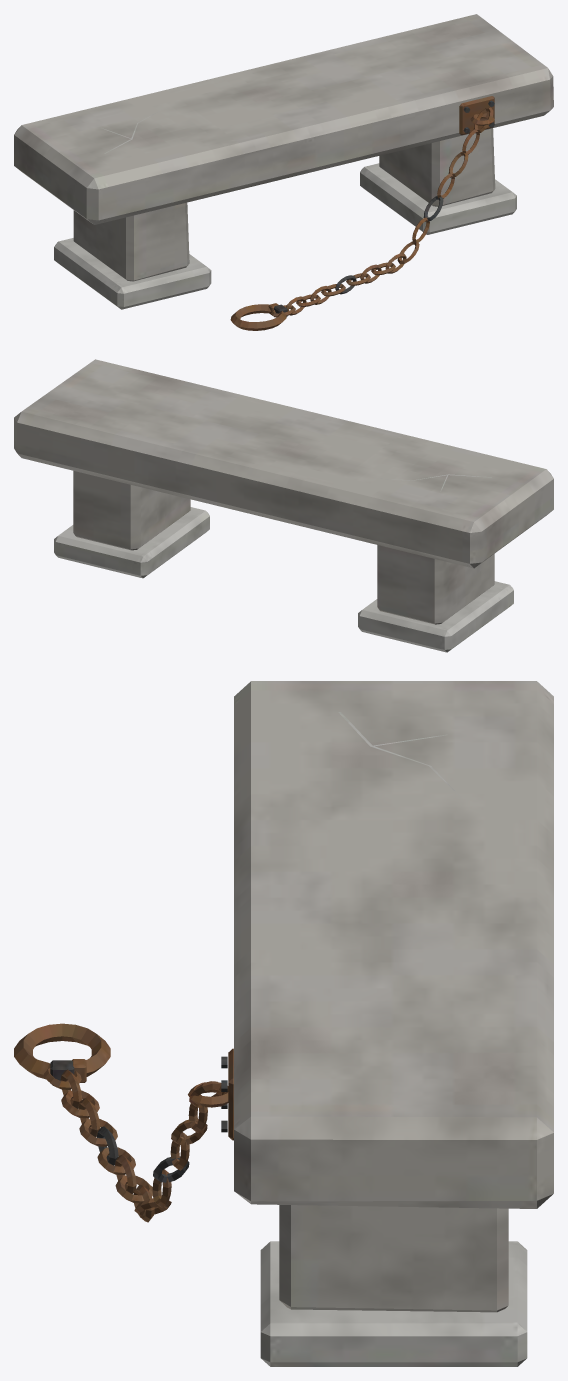
The model's file is O22_lockup_bench.glb.
3 renders of one model, top to bottom at view 1: azimuth 30°, elevation 25°; view 2: azimuth 150°, elevation 25°; view 3: azimuth 270°, elevation 25°, orthographic. The views are drawn at different scales.
Visible parts, largest first — view 1: Stone foot; view 2: Stone foot; view 3: Stone foot.
Boxes of the visible parts, bbox=[...] form: Stone foot: bbox=[14, 14, 553, 330]; Stone foot: bbox=[14, 359, 553, 652]; Stone foot: bbox=[14, 681, 553, 1366].
Bounding box in the file's own units: 2 × 0.5806 × 1.01.
4 materials, 4 textured.
